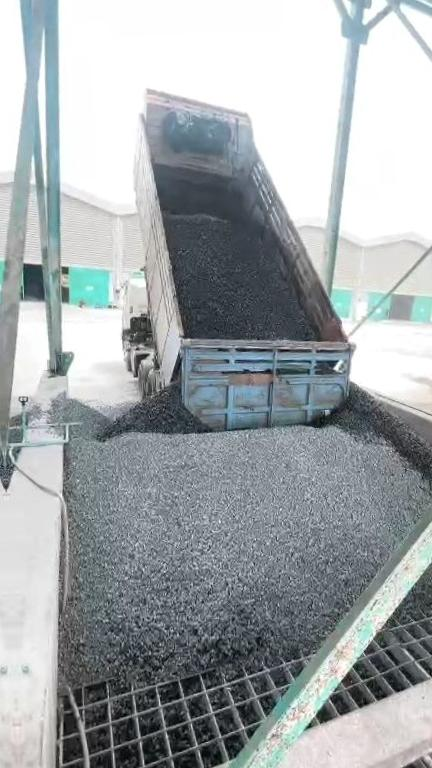gravel: (46, 364, 432, 678), (156, 169, 321, 340), (395, 497, 432, 619)
sand: (395, 369, 432, 434)
